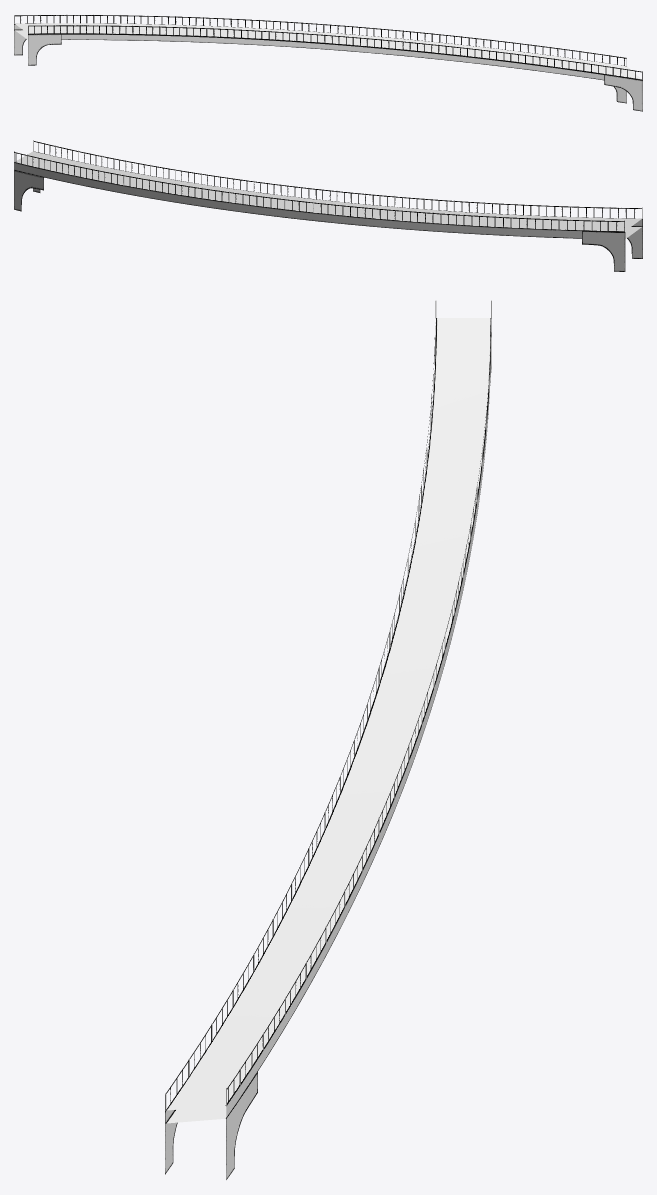
Rendered from FinalBridge.fbx.
3 renders of one model, top to bottom at view 1: azimuth 30°, elevation 25°; view 2: azimuth 150°, elevation 25°; view 3: azimuth 270°, elevation 25°, orthographic. The views are drawn at different scales.
Visible parts, largest first — view 1: Box001, Plane002, Plane001; view 2: Box001, Plane002, Plane001; view 3: Box001, Plane002, Plane001.
Boxes of the visible parts, bbox=[...] form: Box001: bbox=[14, 23, 641, 80]; Plane002: bbox=[14, 15, 642, 80]; Plane001: bbox=[14, 24, 642, 111]; Box001: bbox=[14, 151, 642, 238]; Plane002: bbox=[14, 141, 641, 231]; Plane001: bbox=[14, 170, 642, 271]; Box001: bbox=[165, 318, 491, 1123]; Plane002: bbox=[165, 320, 491, 1111]; Plane001: bbox=[165, 326, 491, 1179].
Bounding box in the file's own units: 49 × 14.83 × 12.68.
1 material, 1 textured.
